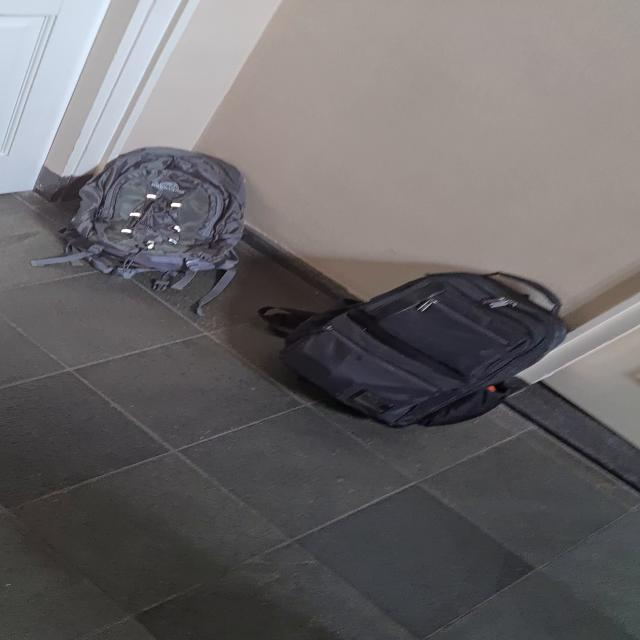backpack: (268, 266, 582, 434), (65, 144, 246, 279)
